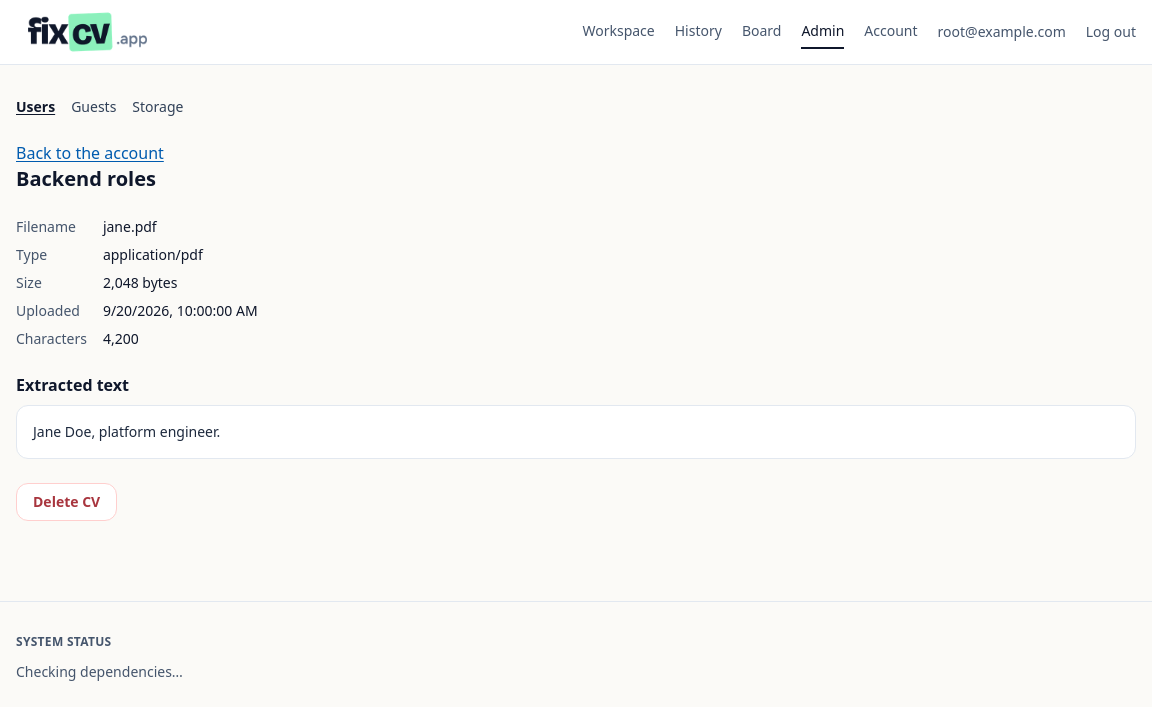
Test: AC-32 — accessibility › the Delete CV dialog takes focus inside, and Cancel returns it to the opener
This screenshot has width=1152, height=707.
Click the button "Delete CV".
click(67, 502)  # box [16, 483, 117, 521]
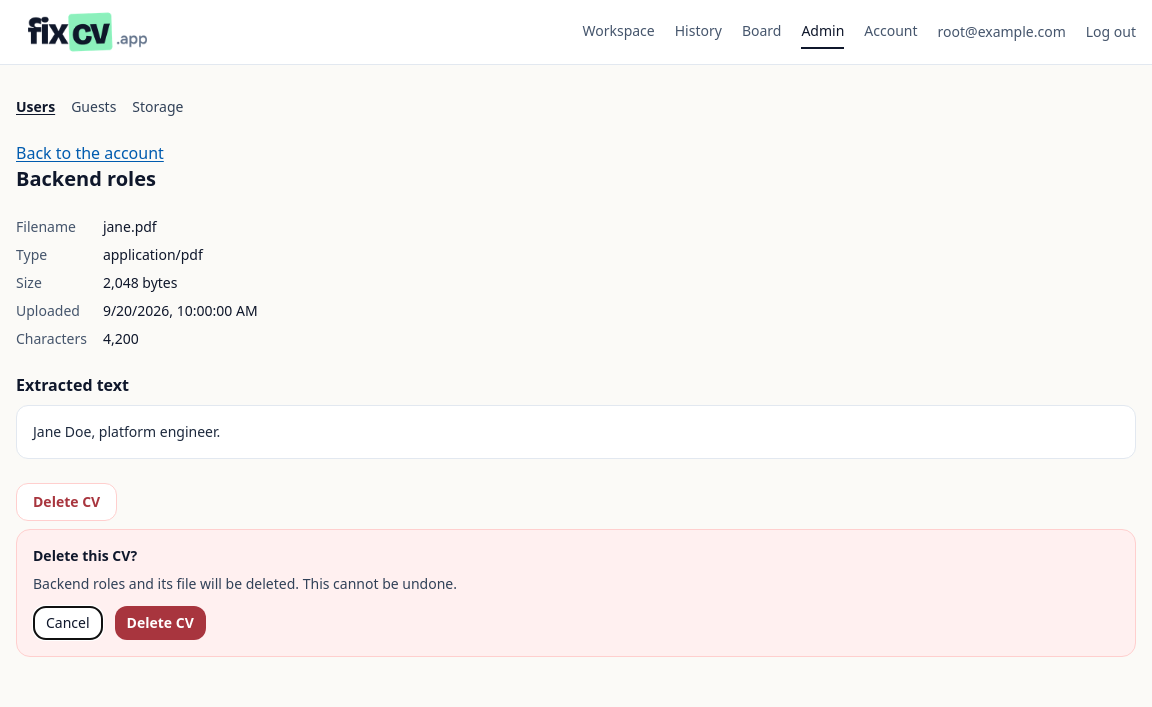
Click the button "Cancel".
click(68, 623)  # box [33, 606, 103, 640]
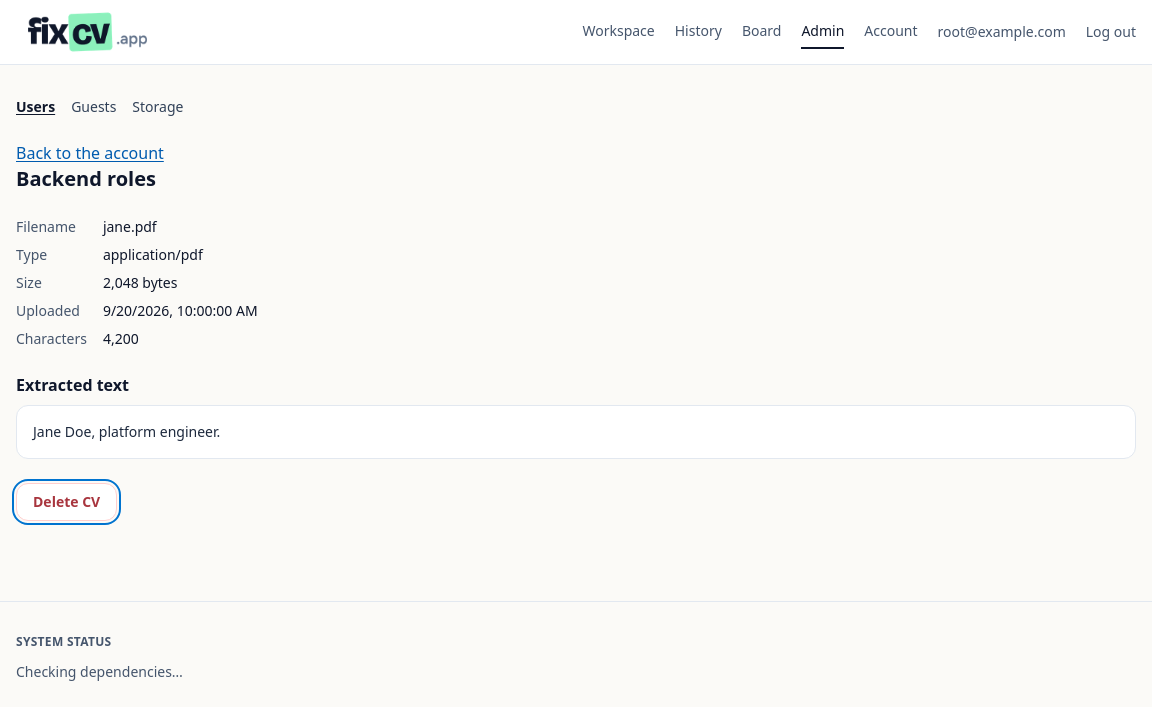
Now the dialog is gone
